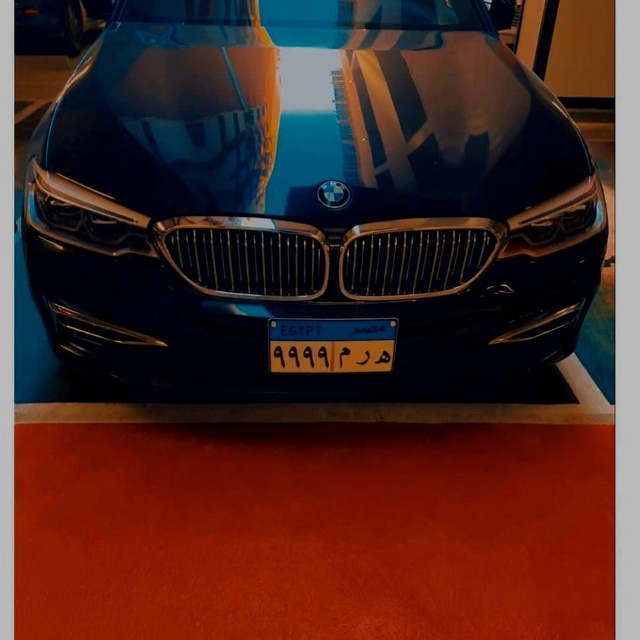License Plate: (264, 314, 400, 378)
